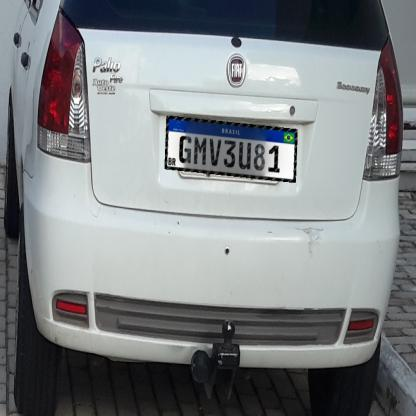PlacaM: (165, 116, 298, 182)
